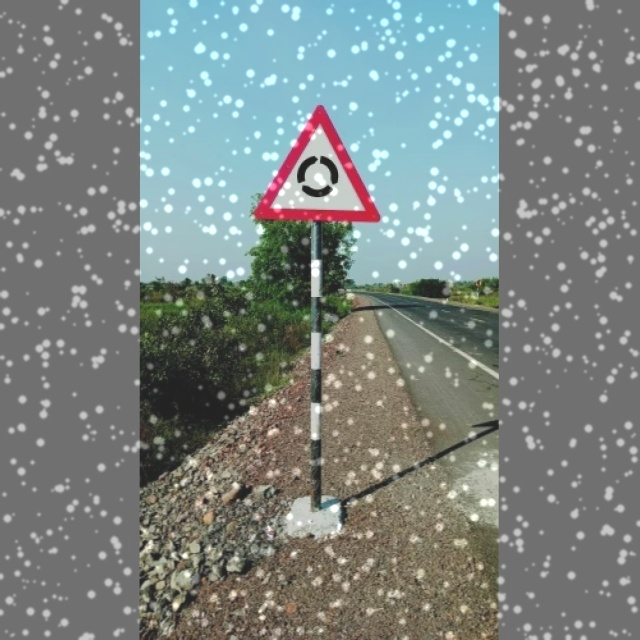Round_About: (256, 102, 384, 223)
